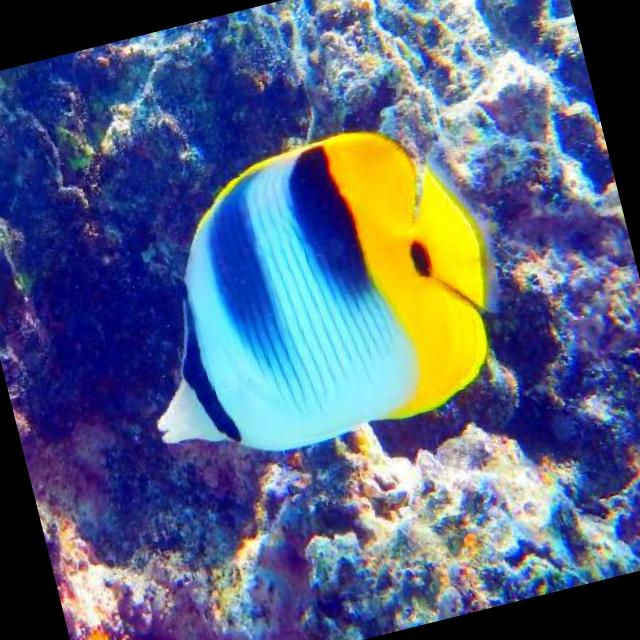ButterflyFish: (96, 108, 522, 483)
